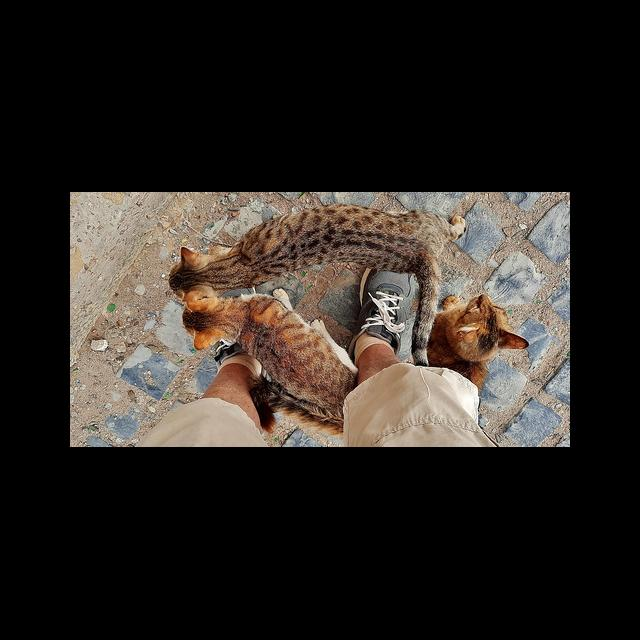animals: (168, 204, 467, 368), (182, 289, 357, 420), (427, 294, 529, 390)
